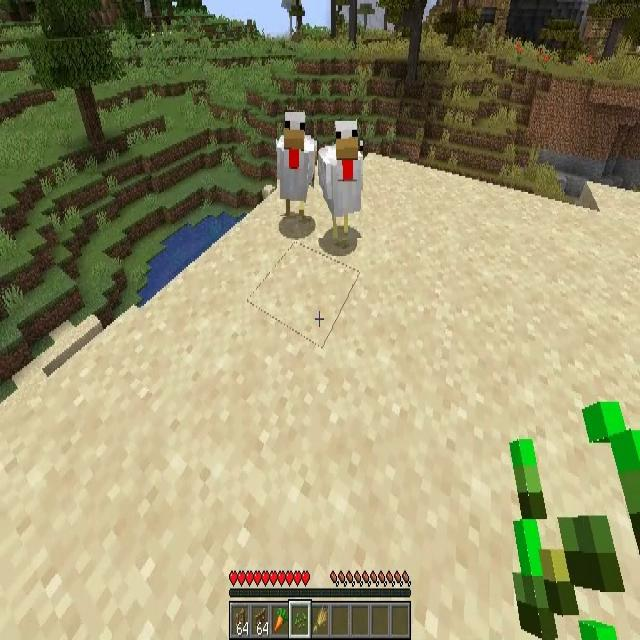duck: (317, 119, 363, 238), (277, 110, 314, 216)
